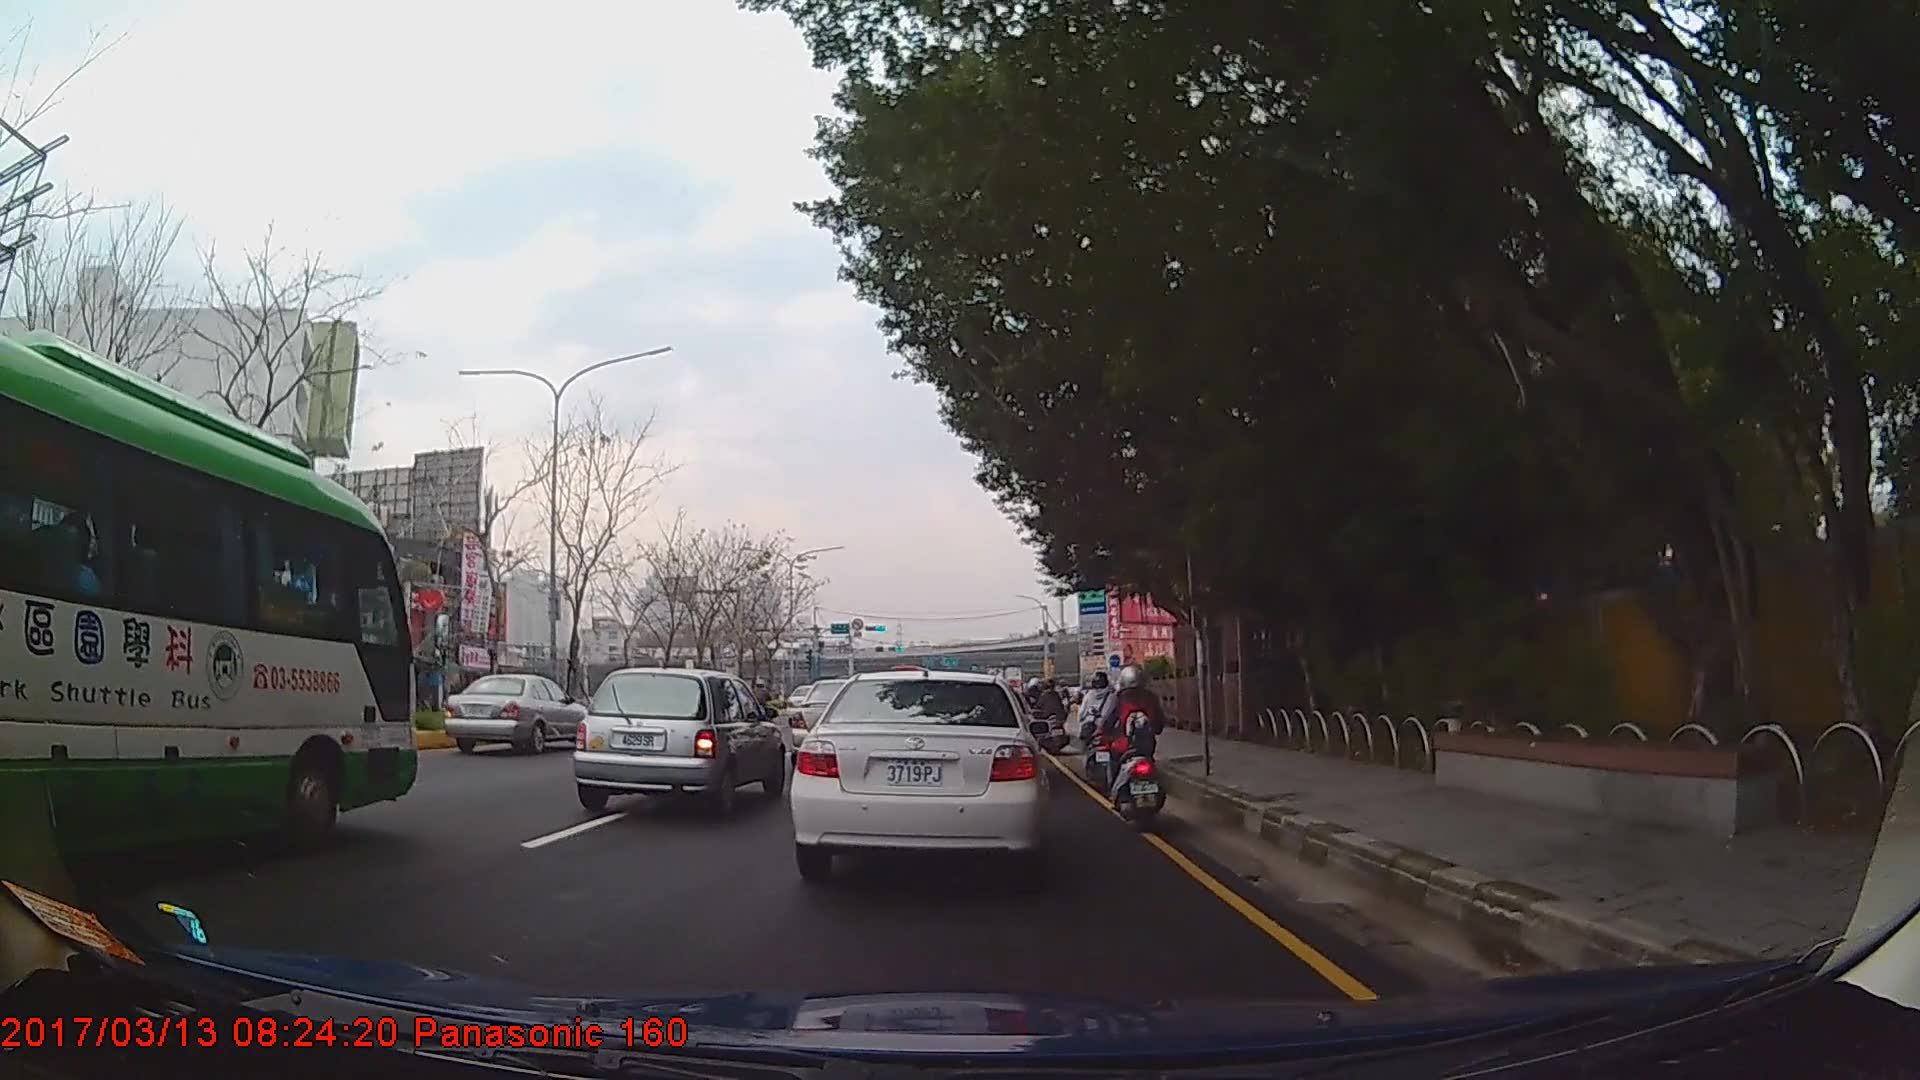rider: (1104, 661, 1164, 820), (1079, 670, 1122, 791), (1037, 676, 1065, 738)
vehicle: (0, 323, 420, 891), (787, 670, 1045, 875), (577, 666, 785, 817), (442, 670, 589, 757)
